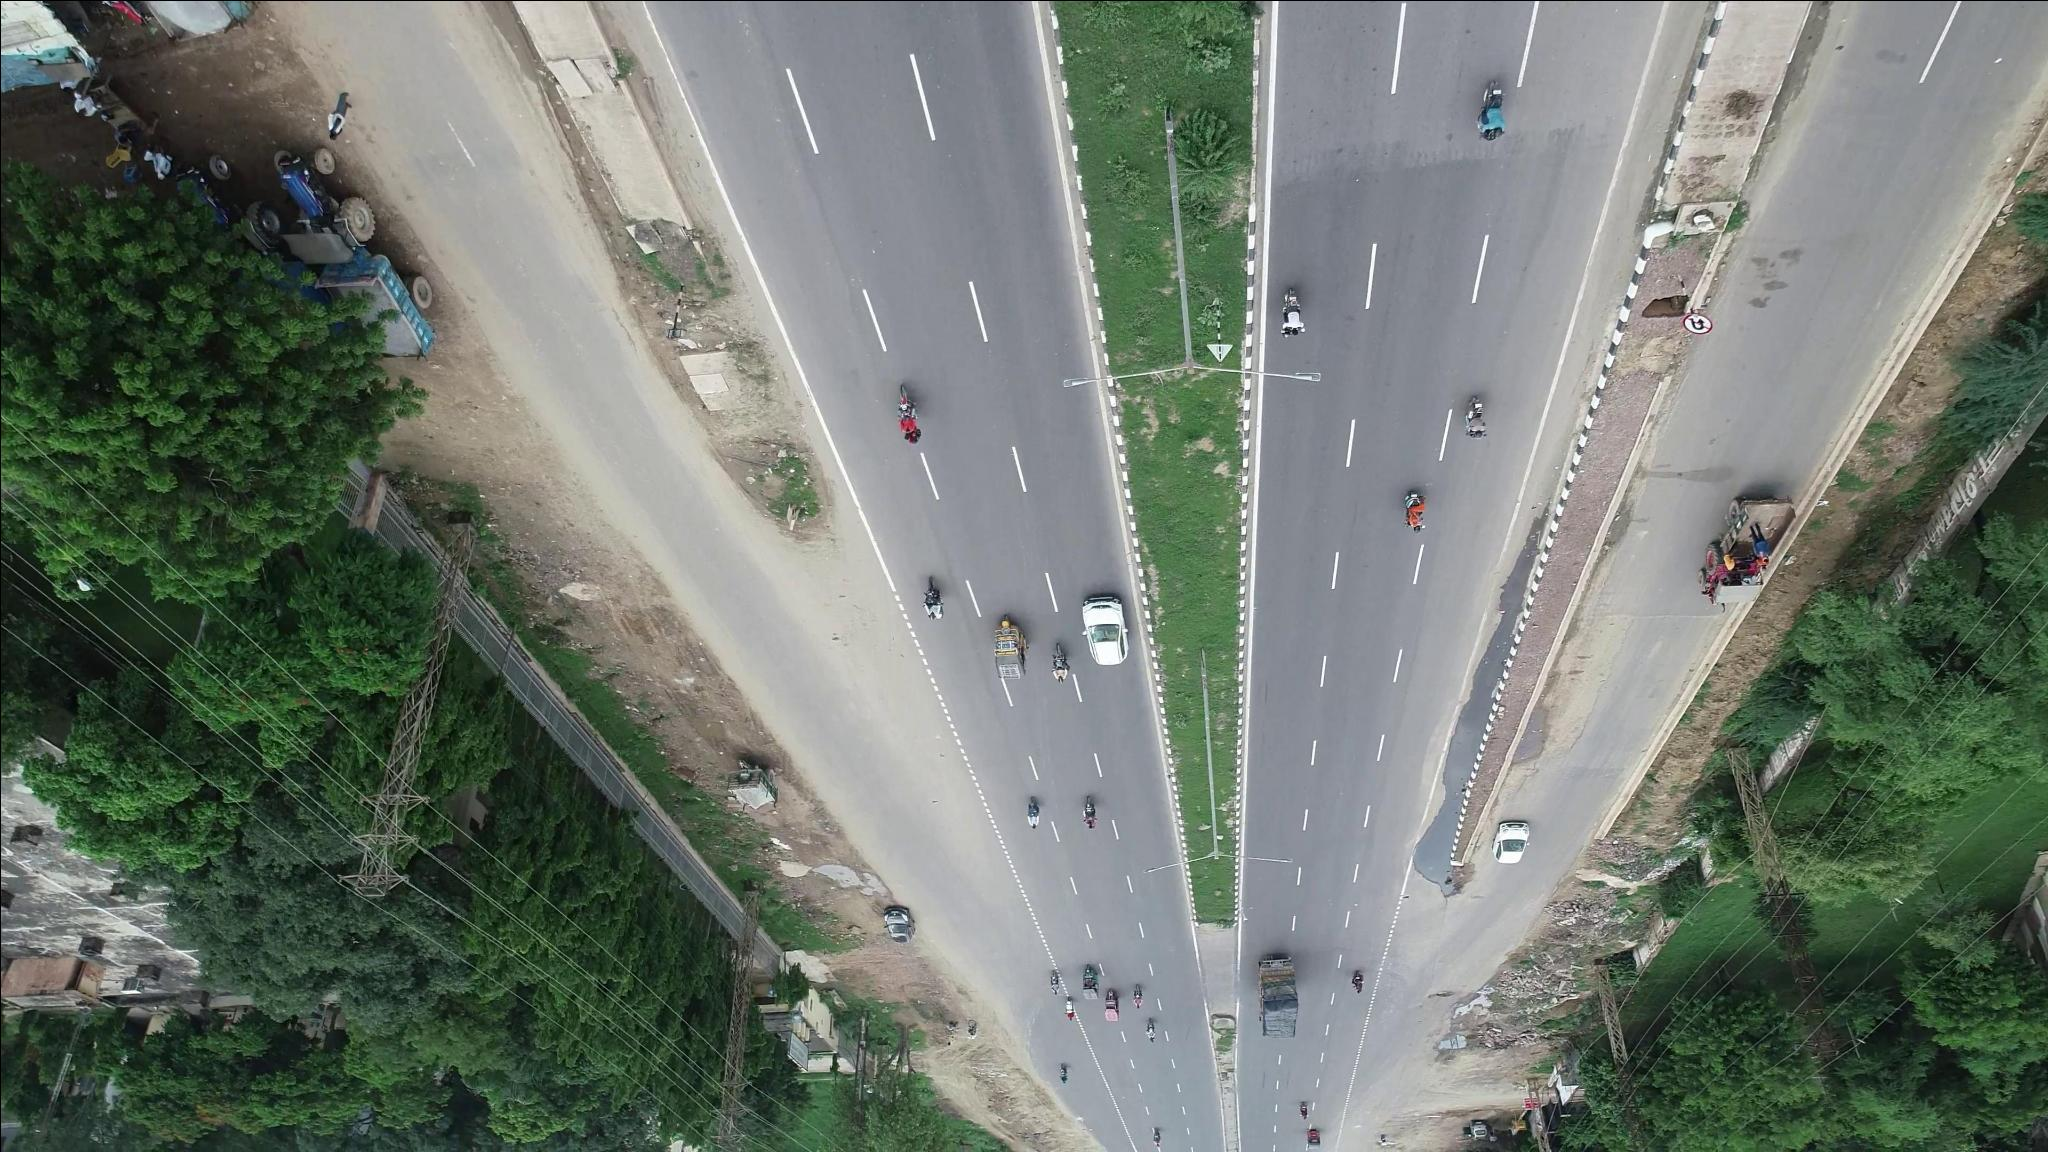Waterlogging: (1440, 582, 1528, 786), (1411, 795, 1461, 899)
